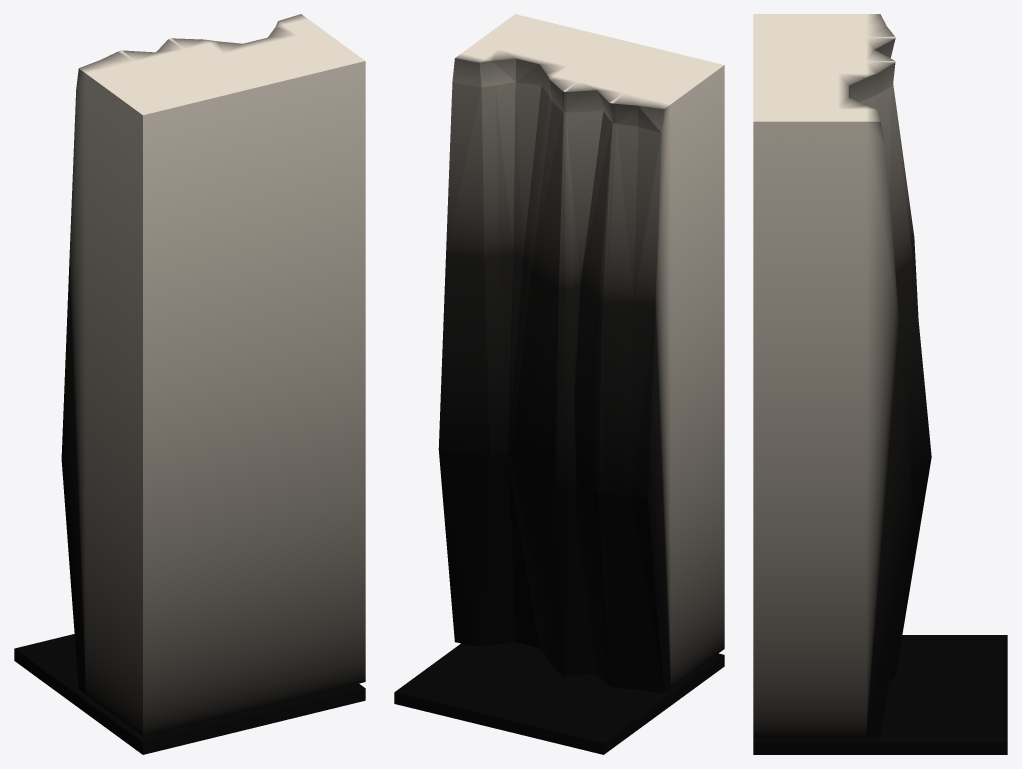
The model's file is SM_VKI_Ground_Cave_OOXX_Q11.fbx.
3 renders of one model, left to right at view 1: azimuth 30°, elevation 25°; view 2: azimuth 150°, elevation 25°; view 3: azimuth 270°, elevation 25°, orthographic. The views are drawn at different scales.
Visible parts, largest first — view 1: SM_VKI_Ground_Cave_OOXX_Q11.001; view 2: SM_VKI_Ground_Cave_OOXX_Q11.001; view 3: SM_VKI_Ground_Cave_OOXX_Q11.001.
Boxes of the visible parts, left/top/right/bottom form: SM_VKI_Ground_Cave_OOXX_Q11.001: left=14, top=14, right=365, bottom=754; SM_VKI_Ground_Cave_OOXX_Q11.001: left=394, top=14, right=724, bottom=754; SM_VKI_Ground_Cave_OOXX_Q11.001: left=753, top=14, right=1007, bottom=754.
Bounding box in the file's own units: 1.5 × 4.12 × 1.5.
